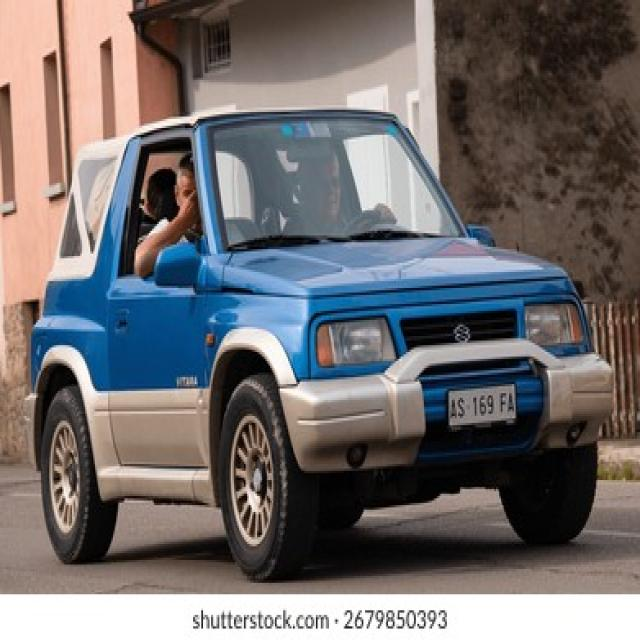suzuki: (448, 322, 472, 348)
